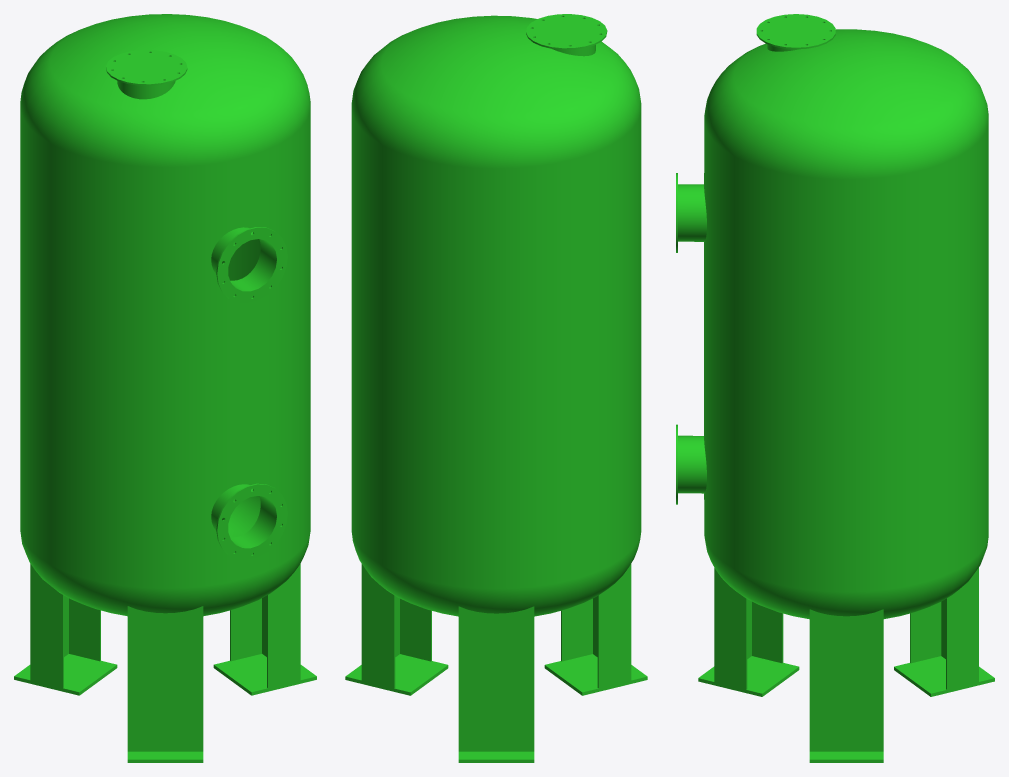
File: Wassertank.obj
3 renders of one model, left to right at view 1: azimuth 30°, elevation 25°; view 2: azimuth 150°, elevation 25°; view 3: azimuth 270°, elevation 25°, orthographic. The views are drawn at different scales.
Visible parts, largest first — view 1: Solid1; view 2: Solid1; view 3: Solid1.
Boxes of the visible parts, <box> form: Solid1: <box>14,14,316,762</box>; Solid1: <box>345,14,647,762</box>; Solid1: <box>676,14,994,762</box>.
Bounding box in the file's own units: 0.7902 × 1.93 × 0.8617.
